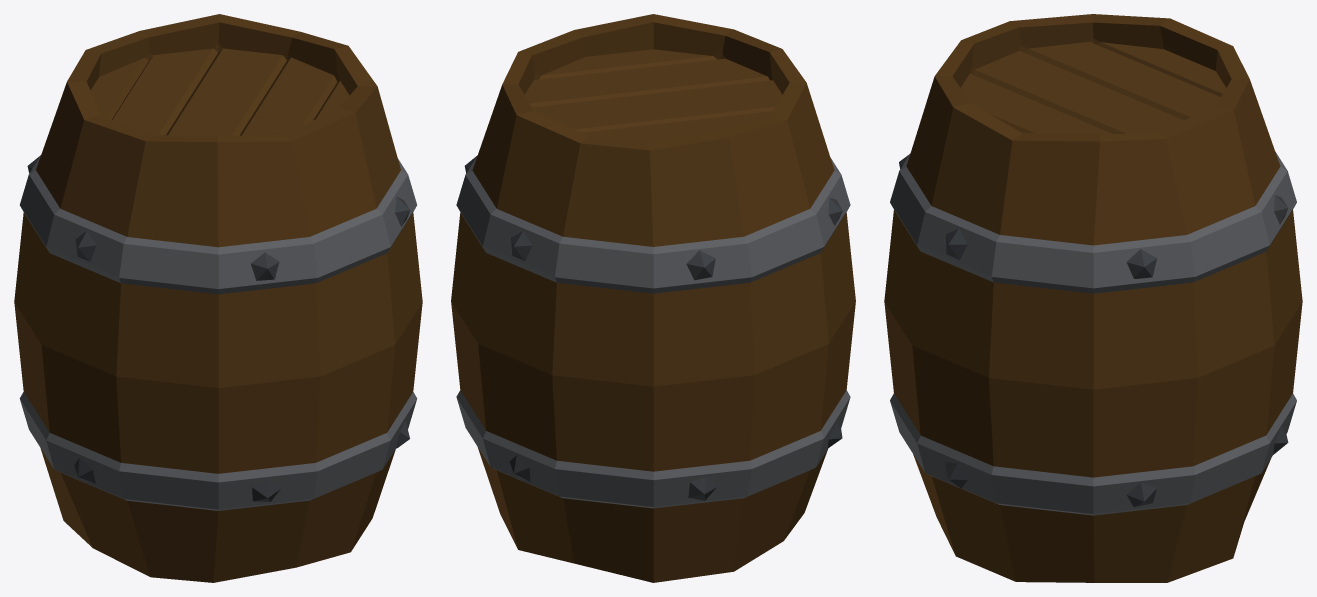
Rendered from fıcı1.fbx.
3 renders of one model, left to right at view 1: azimuth 30°, elevation 25°; view 2: azimuth 150°, elevation 25°; view 3: azimuth 270°, elevation 25°, orthographic. The views are drawn at different scales.
Visible parts, largest first — view 1: Cylinder, Icosphere.006; view 2: Cylinder, Icosphere.006; view 3: Cylinder, Icosphere.006.
Boxes of the visible parts, bbox=[...] form: Cylinder: bbox=[14, 14, 422, 582]; Icosphere.006: bbox=[27, 155, 409, 501]; Cylinder: bbox=[451, 14, 855, 582]; Icosphere.006: bbox=[464, 155, 842, 500]; Cylinder: bbox=[884, 14, 1302, 582]; Icosphere.006: bbox=[899, 154, 1288, 506].
Bounding box in the file's own units: 259 × 309 × 259.
